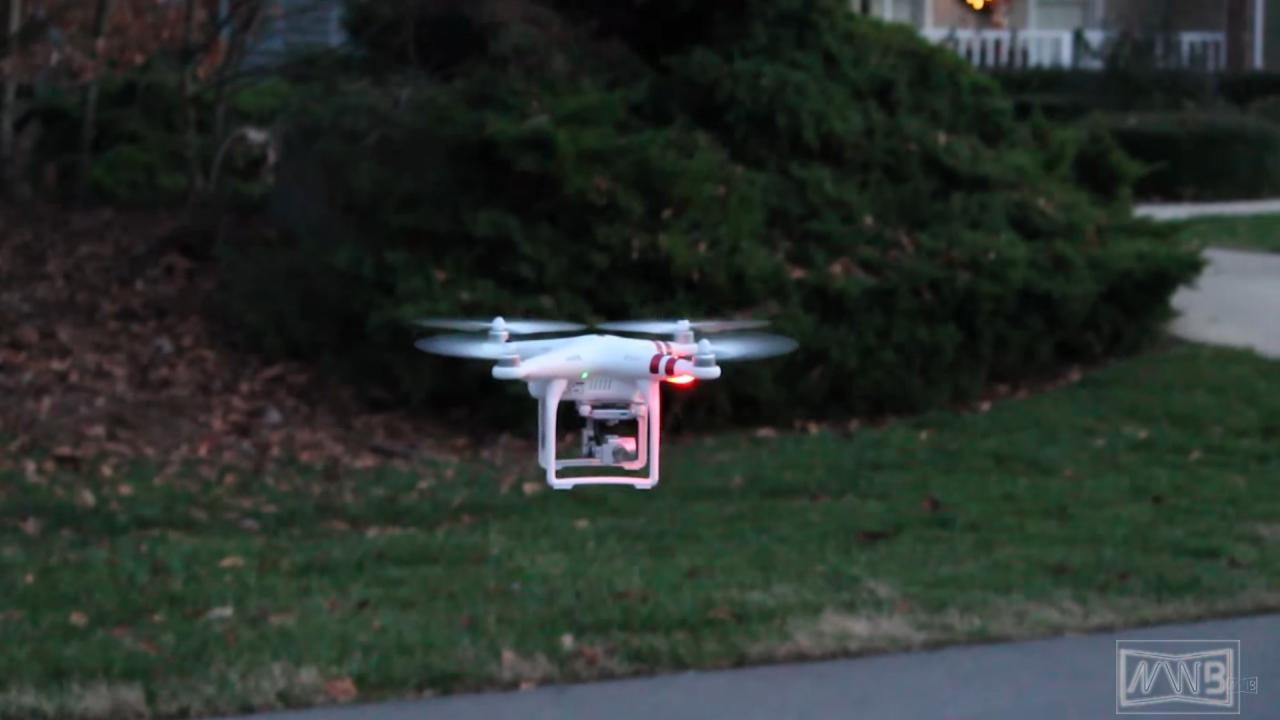Drone: (404, 300, 808, 497)
